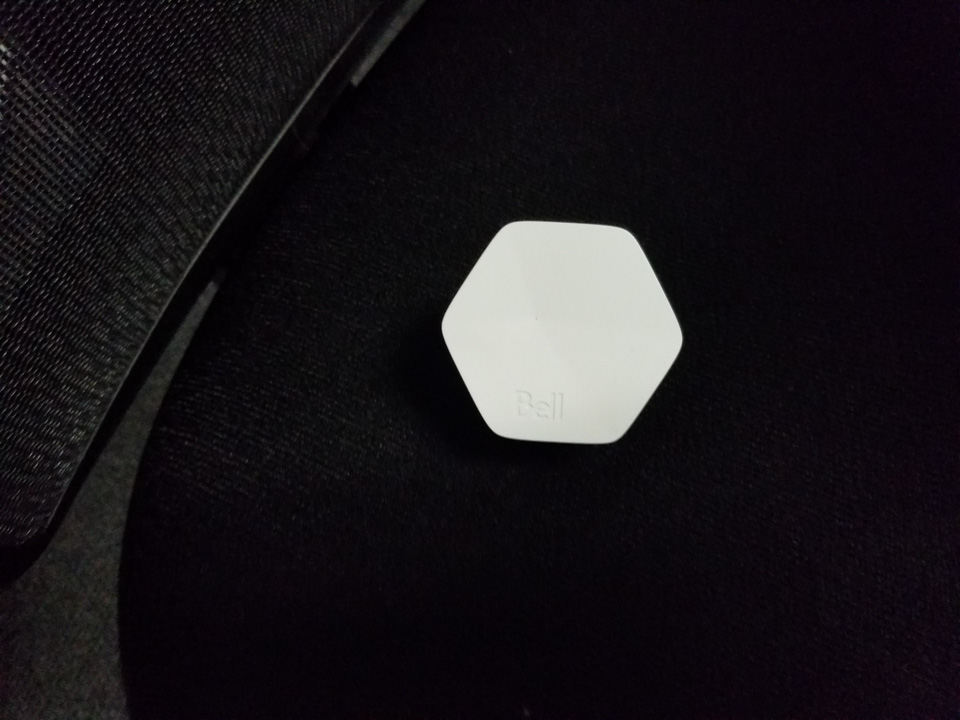pod: (432, 206, 694, 456)
